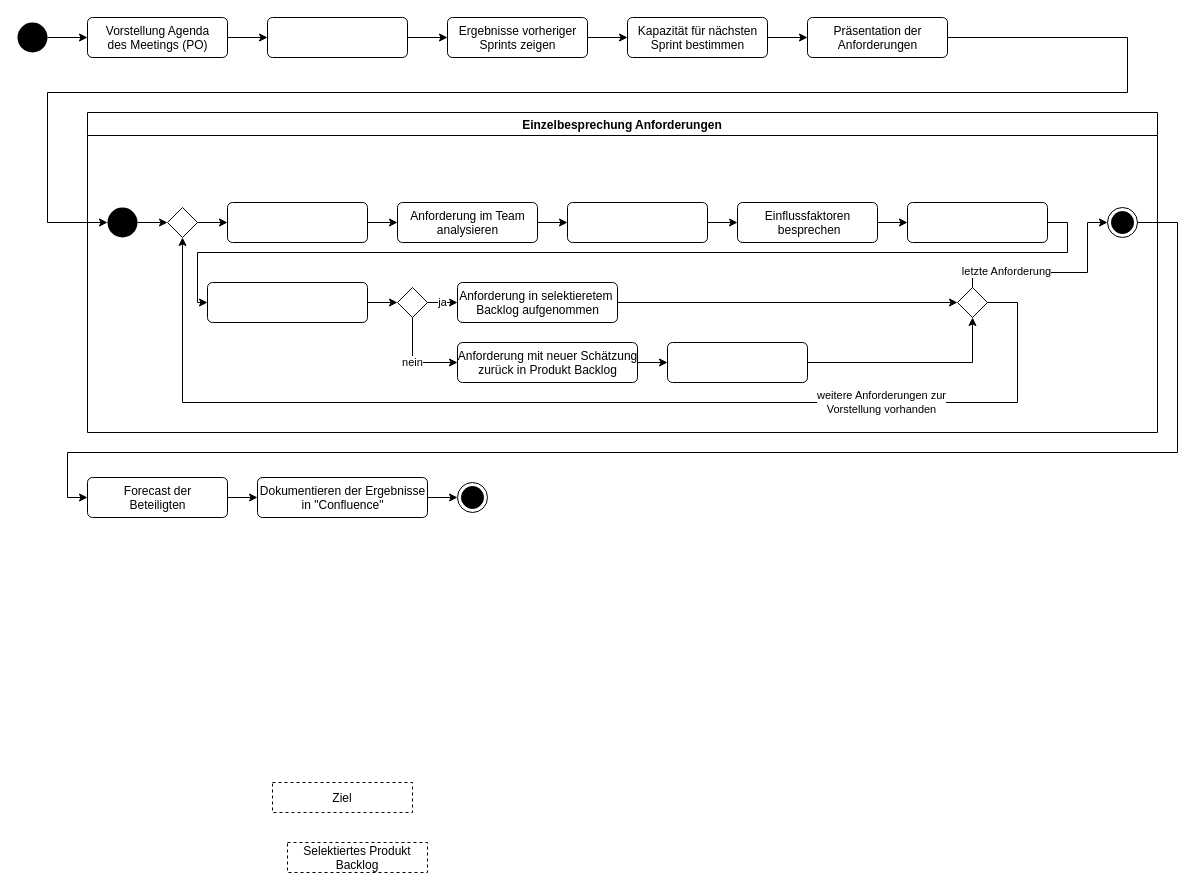
Image size: 1203x890. Some labels were removed from this diagram. The shapes that lost their labels are listed below. From the top down, each one's centre as x and y in pixels, then its label:
[337,37]: Vorstellung des Sprintziels (PO)
[297,222]: Anforderung vorstellen
[637,222]: Rahmenbedingungen besprechen
[977,222]: Schätzung durch "Planning Poker"
[287,302]: Entscheidung über Aufnahme in selektiertem Backlog
[737,362]: Überprüfung des festgelegten Ziels
